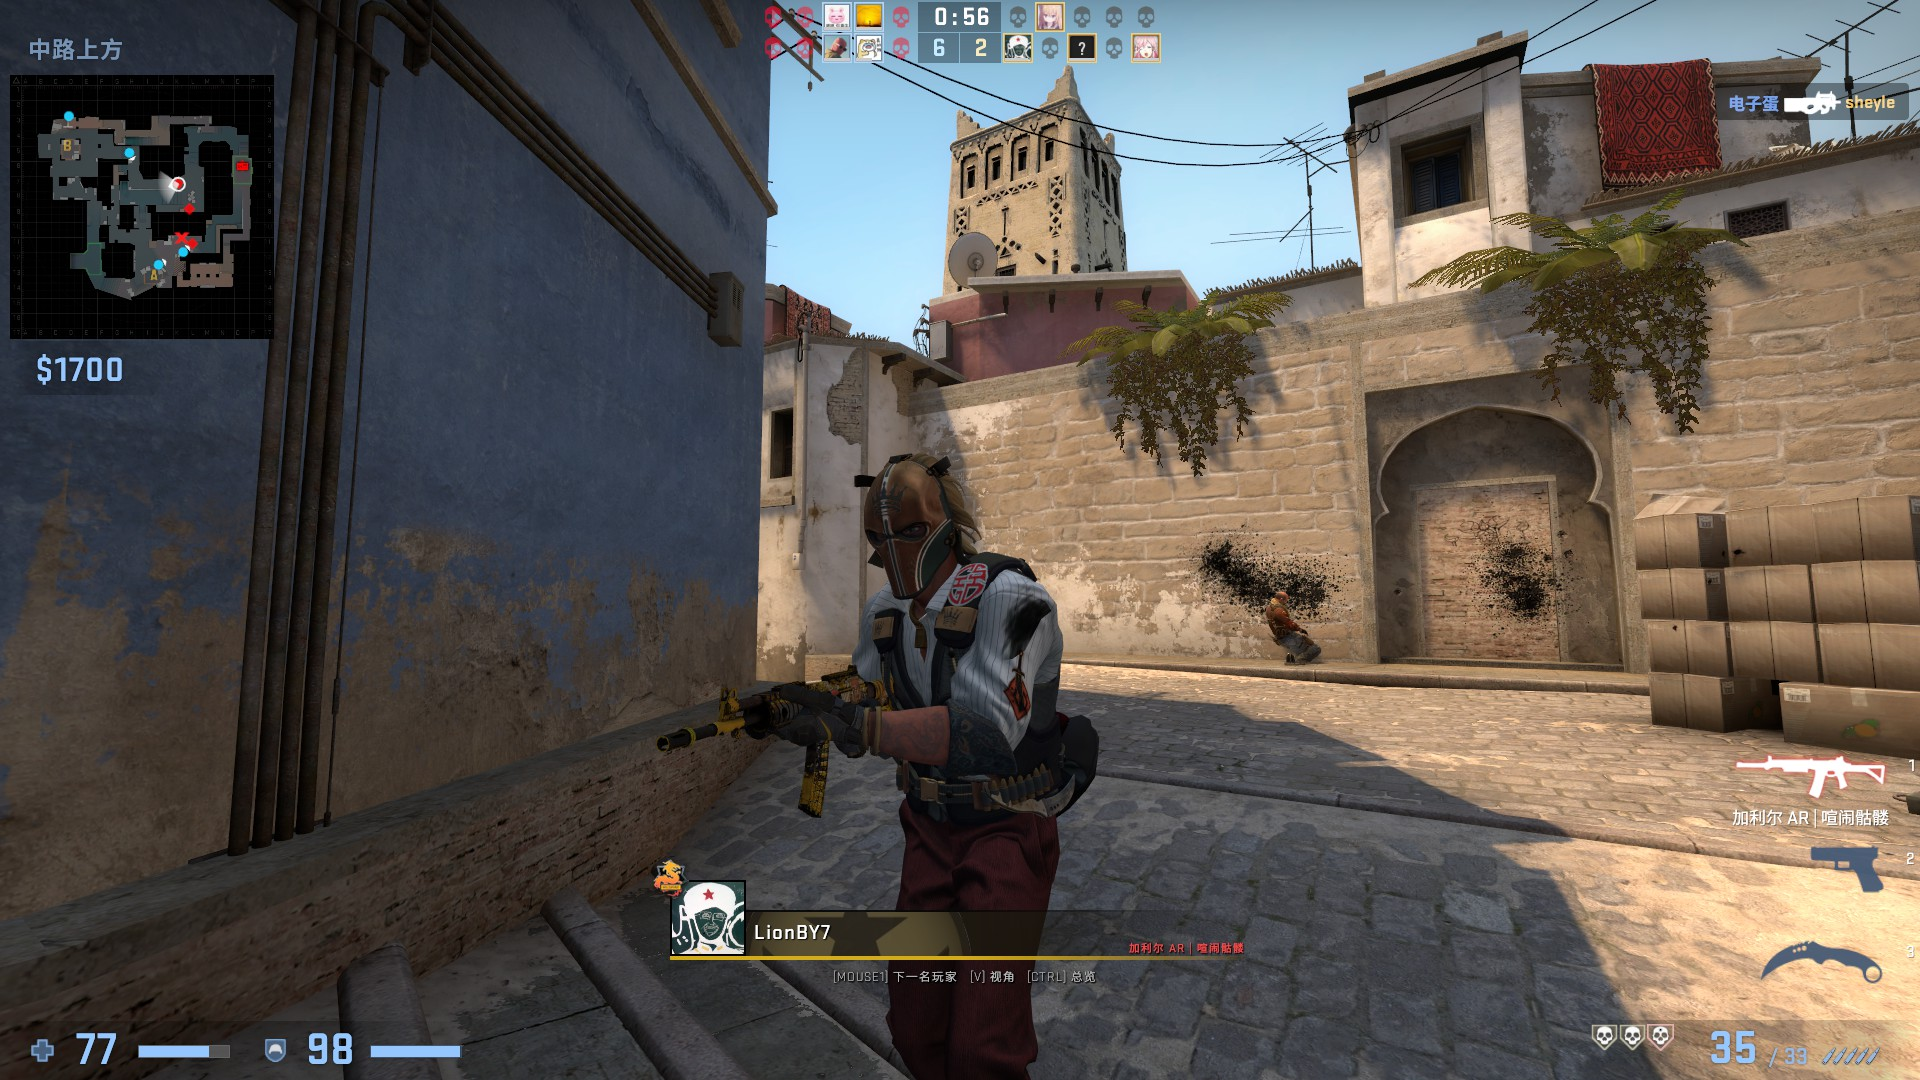head: (849, 454, 972, 601), (1271, 587, 1292, 607)
